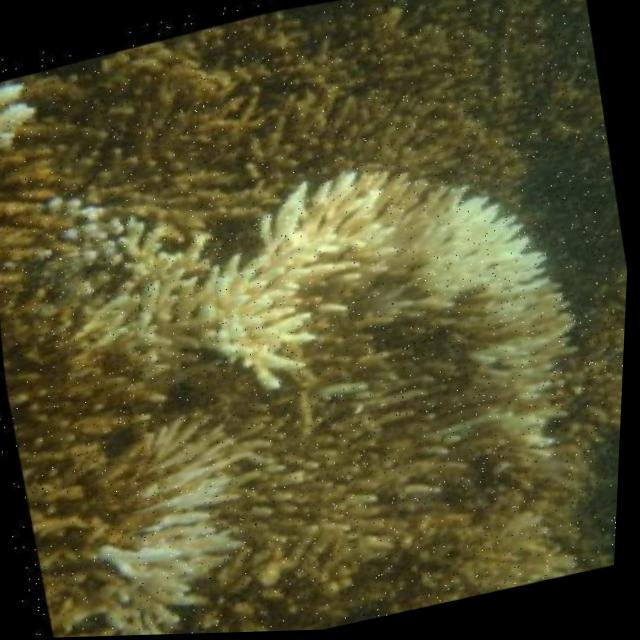Bleached Coral: (74, 129, 468, 428), (384, 127, 635, 504), (55, 368, 370, 638)
